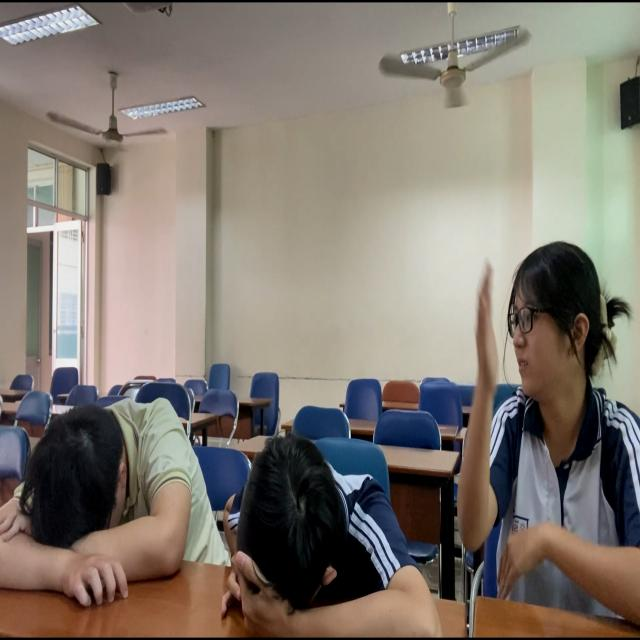raise_hand: (459, 229, 640, 640)
sleep: (218, 420, 427, 640), (6, 386, 204, 599)
